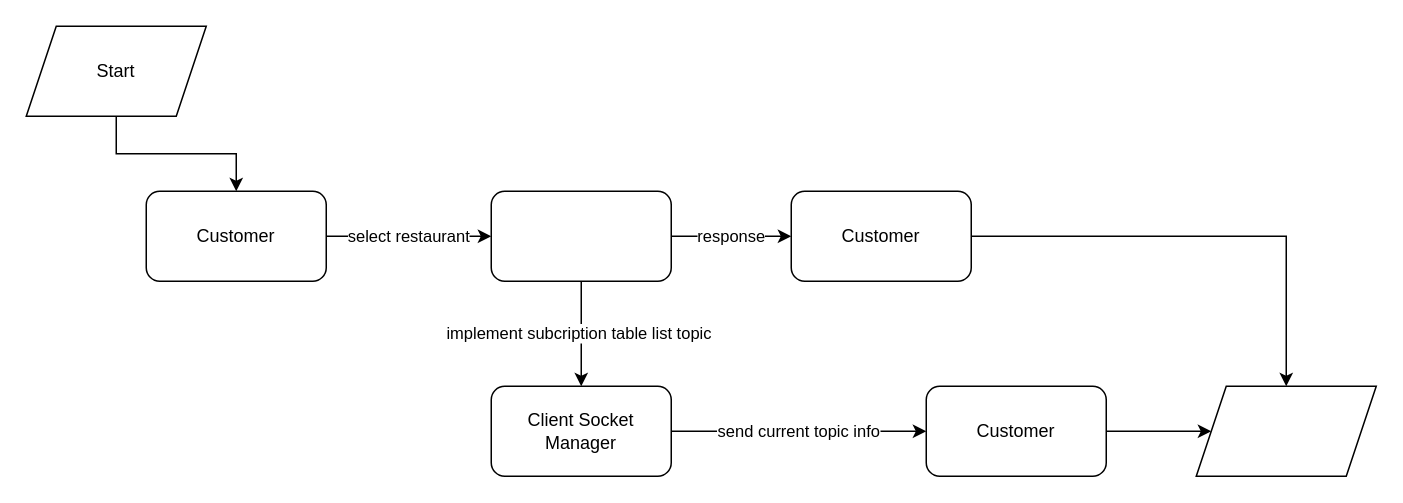
Some shapes in this 1403 by 503 pixel diagram are drawn without their labels. The shapes that lost their labels are listed below. From the top down, each one's box as (x1, y1, x2, y2) in pixels, then its label:
(490, 190, 671, 281): Restaurant Service
(1195, 385, 1376, 476): End
